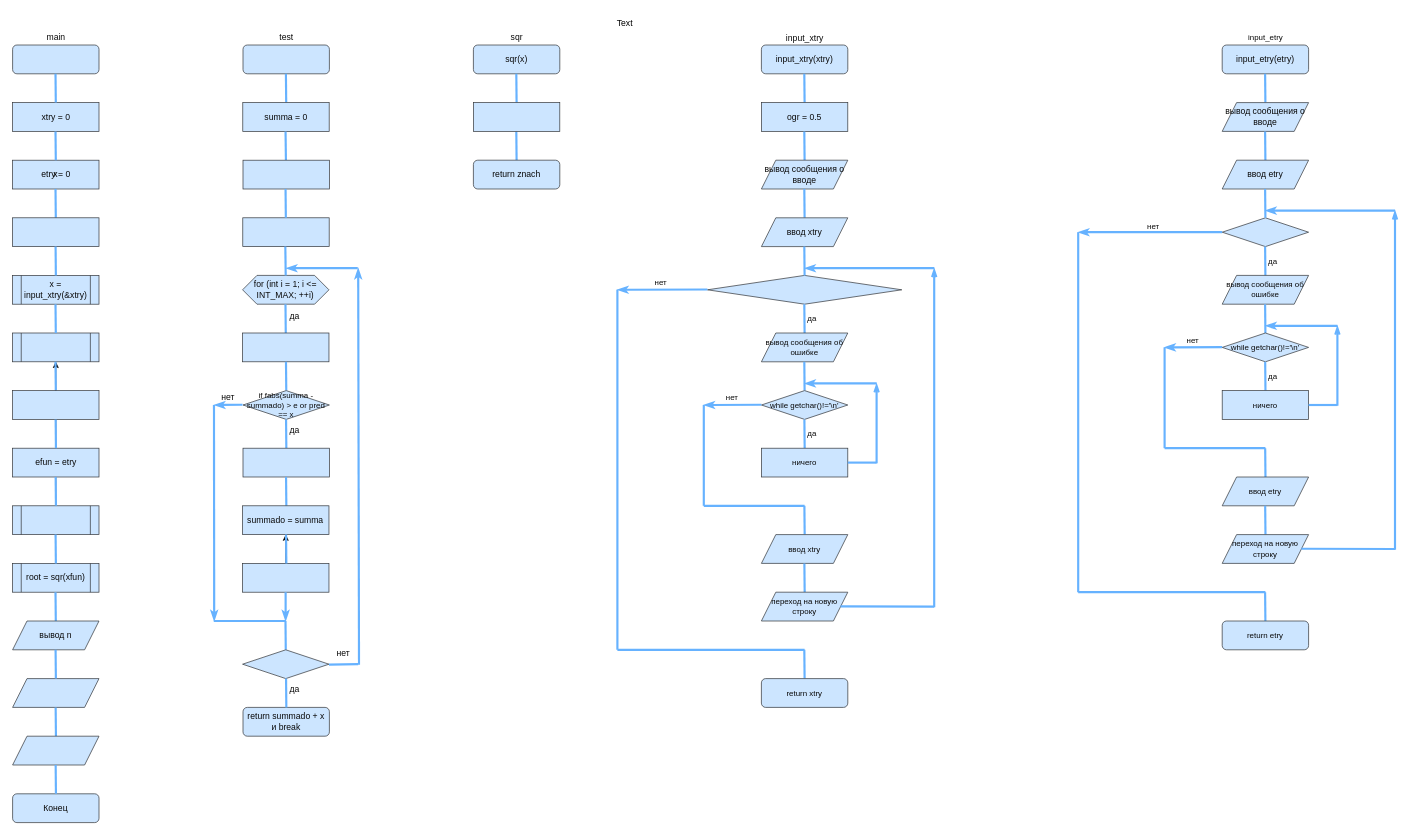
Some shapes in this 1414 by 835 pixel diagram are drawn without their labels. The centre of each missing label's shape, as x and y in pixels:
*nom = i: the point at 285,347
e = input_etry(&etry): the point at 55,347
if fabs(summa - summado) < e: the point at 285,664
nom = 1: the point at 55,232
pred = pred * x *(2 * i -1)/i: the point at 285,462
pred = x: the point at 285,232
summa = summado + pred: the point at 285,577
summado = 0: the point at 285,174
t = test(xfun, &nom, efun): the point at 55,520
test(x, *nom, e): the point at 285,59
while (xtry <= -1*ogr or xtry > ogr or gethcar()!='\n' ): the point at 804,289
while etry <= 0 or getchar() != '\n': the point at 1265,232
xfun = xtry: the point at 55,404
znach = x / sqrt(1 - 2*x): the point at 516,116
вывод root: the point at 55,692
вывод t: the point at 55,750
Начало: the point at 55,59
